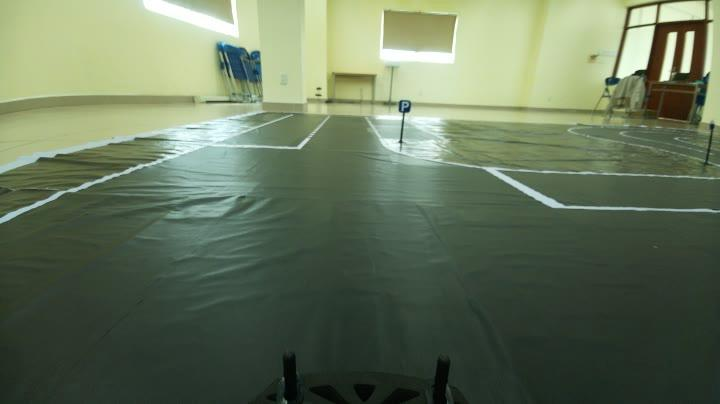parking: (395, 96, 413, 118)
